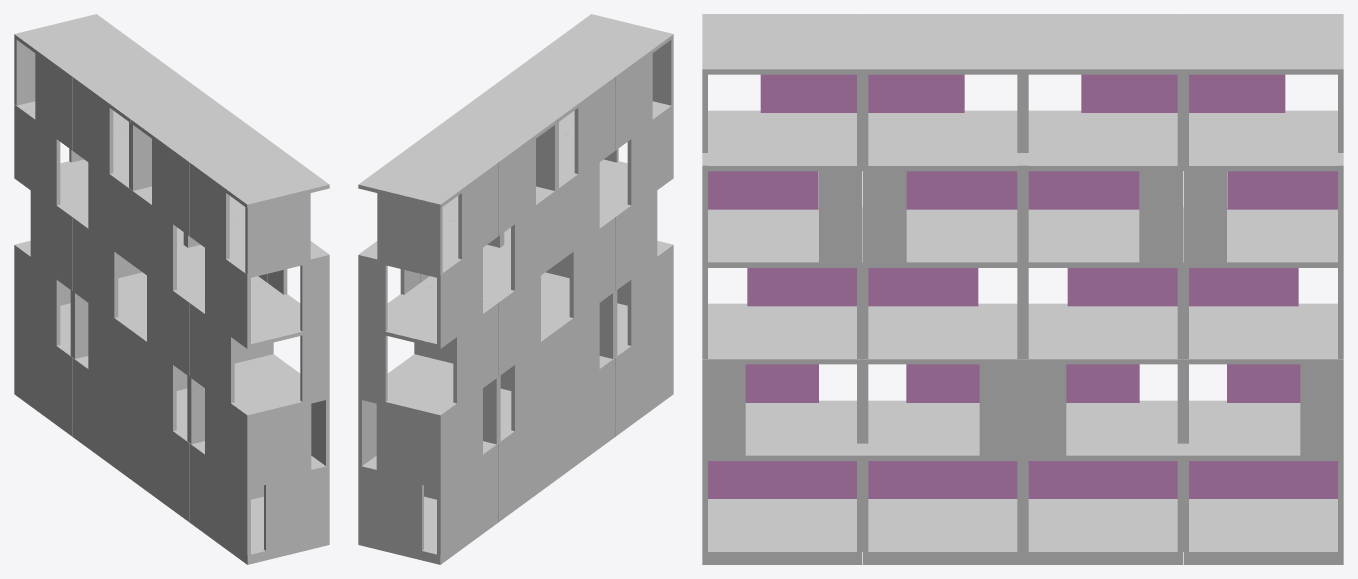
File: guizi.FBX
3 views of the same model, side by side, from view 1: azimuth 30°, elevation 25°; view 2: azimuth 150°, elevation 25°; view 3: azimuth 270°, elevation 25° (orthographic). The views are drawn at different scales.
Visible parts, largest first — view 1: guizi; view 2: guizi; view 3: guizi.
Part boxes in pixels (x1,y1,x2,y2): guizi: (14, 14, 329, 564); guizi: (358, 14, 673, 564); guizi: (702, 14, 1343, 564).
Bounding box in the file's own units: 453 × 1891 × 2217.
